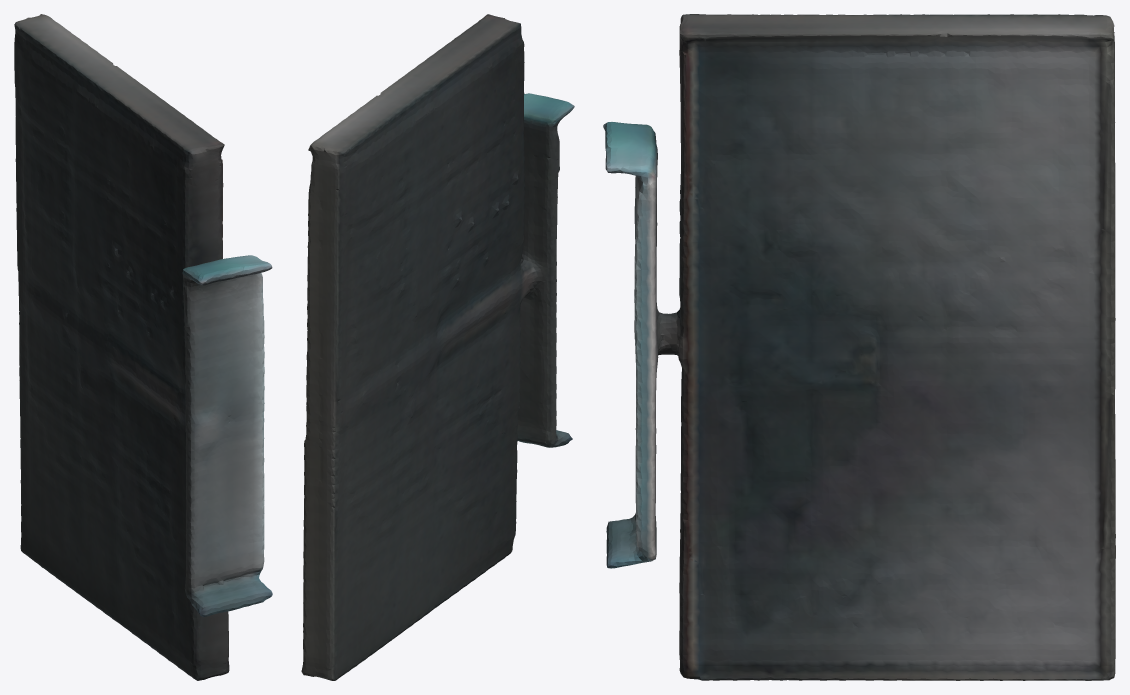
File: demo3.glb
The picture shows the model from 3 angles, left to right: view 1: azimuth 30°, elevation 25°; view 2: azimuth 150°, elevation 25°; view 3: azimuth 270°, elevation 25°; orthographic projection. The views are drawn at different scales.
Parts seen in each view (by area): view 1: Screenshot_2026-10-07_194949.obj; view 2: Screenshot_2026-10-07_194949.obj; view 3: Screenshot_2026-10-07_194949.obj.
Boxes of the visible parts, x1=… form: Screenshot_2026-10-07_194949.obj: x1=14, y1=14, x2=272, y2=680; Screenshot_2026-10-07_194949.obj: x1=301, y1=14, x2=574, y2=680; Screenshot_2026-10-07_194949.obj: x1=603, y1=14, x2=1115, y2=680.
Size of the model in its own units: 0.3061 by 1.98 by 1.43.
